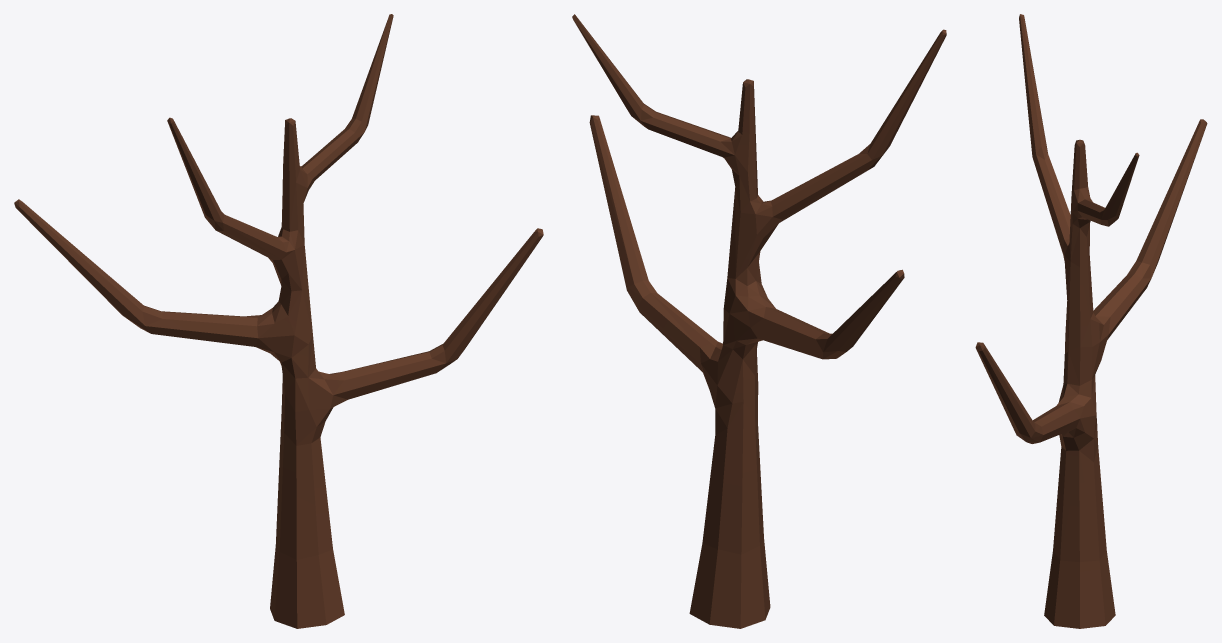
File: 1Stad.fbx
3 renders of one model, left to right at view 1: azimuth 30°, elevation 25°; view 2: azimuth 150°, elevation 25°; view 3: azimuth 270°, elevation 25°, orthographic. The views are drawn at different scales.
Parts seen in each view (by area): view 1: Plane.003; view 2: Plane.003; view 3: Plane.003.
Part boxes in pixels (x1=…): Plane.003: x1=14, y1=14, x2=543, y2=628; Plane.003: x1=572, y1=14, x2=946, y2=628; Plane.003: x1=975, y1=14, x2=1207, y2=628.
Bounding box in the file's own units: 91.88 × 120 × 47.88.
